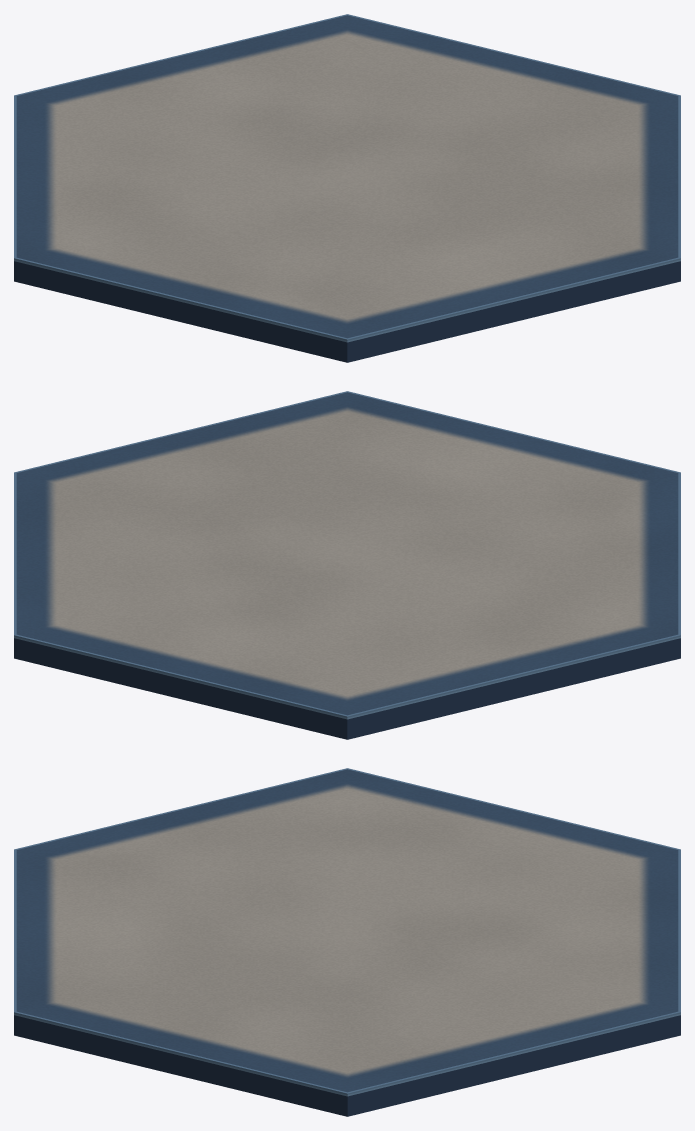
Rendered from campus_tile_plaza_v01.glb.
The picture shows the model from 3 angles, top to bottom: view 1: azimuth 30°, elevation 25°; view 2: azimuth 150°, elevation 25°; view 3: azimuth 270°, elevation 25°; orthographic projection.
Parts seen in each view (by area): view 1: campus_tile_plaza; view 2: campus_tile_plaza; view 3: campus_tile_plaza.
Boxes of the visible parts, bbox=[...] form: campus_tile_plaza: bbox=[14, 14, 680, 362]; campus_tile_plaza: bbox=[14, 391, 680, 739]; campus_tile_plaza: bbox=[14, 768, 680, 1116].
Size of the model in its own units: 36 by 1.2 by 31.18.
Materials: 1 (1 with a texture image).
